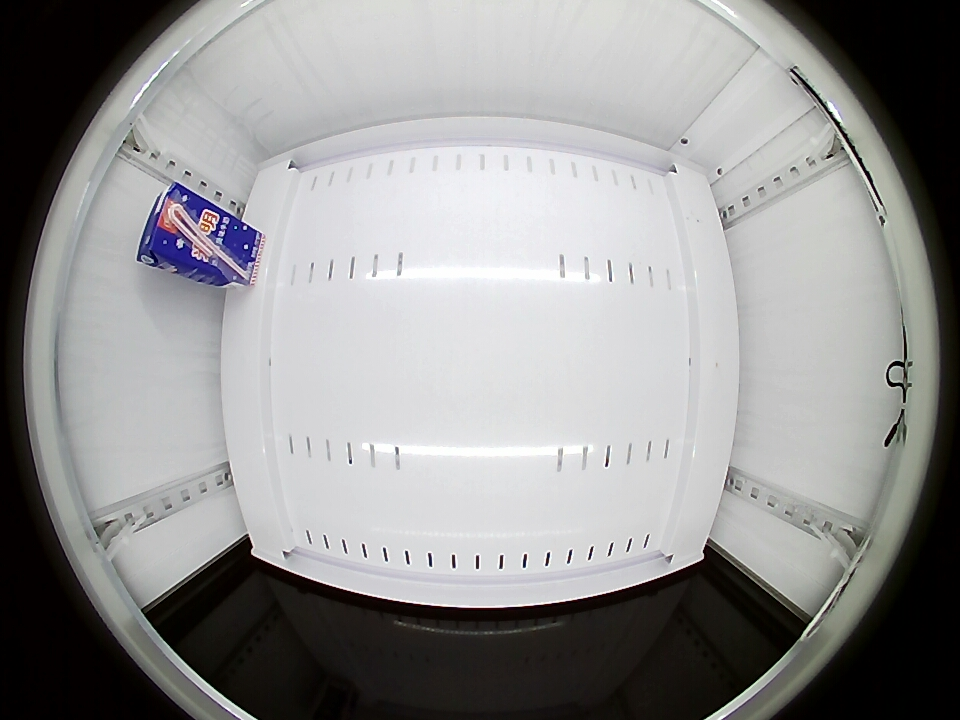bingqilinniunai: (137, 182, 207, 272)
